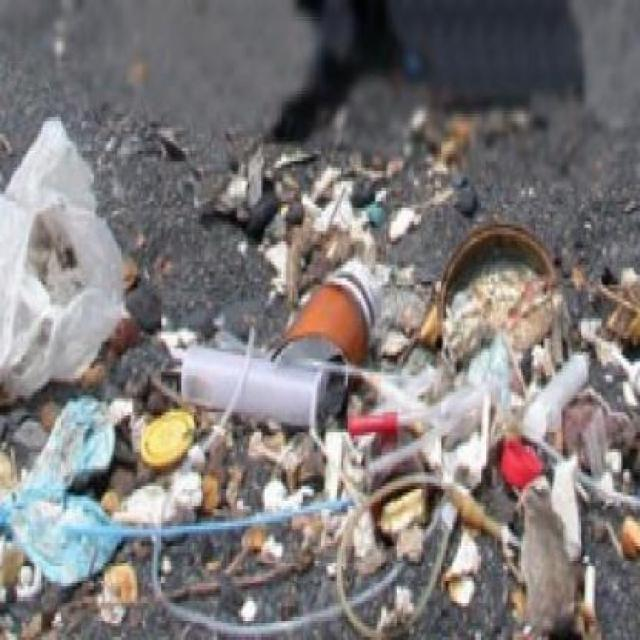garbage: (12, 322, 638, 586), (248, 128, 376, 382)
